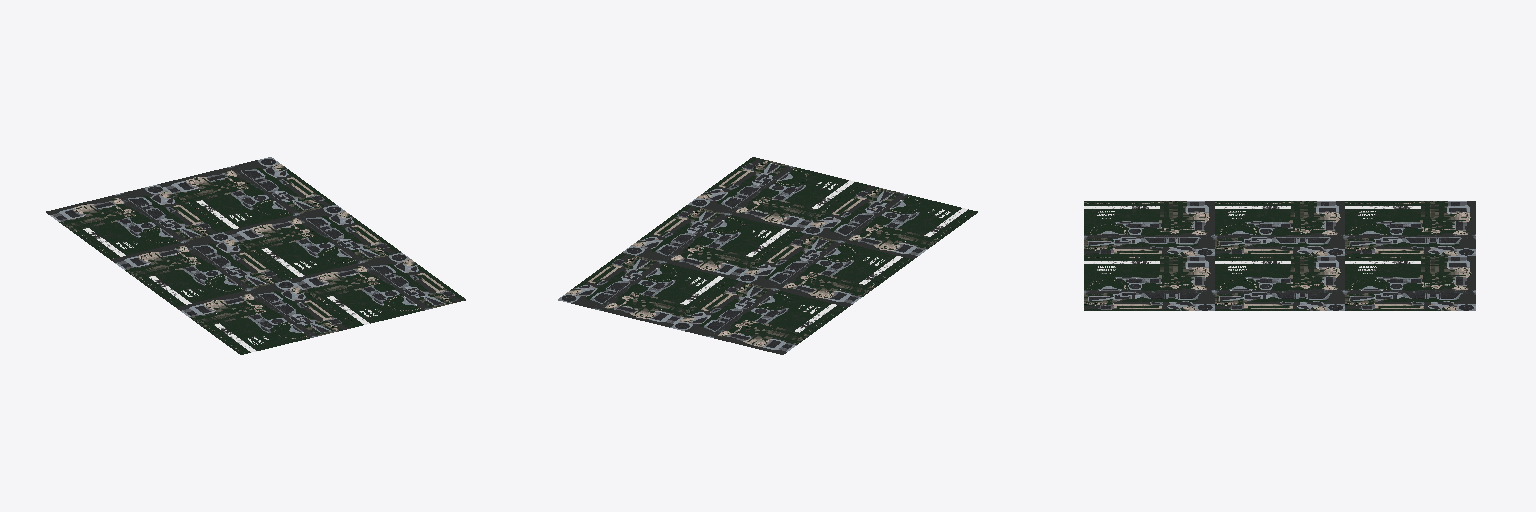
3 views of the same model, side by side, from view 1: azimuth 30°, elevation 25°; view 2: azimuth 150°, elevation 25°; view 3: azimuth 270°, elevation 25° (orthographic).
Parts seen in each view (by area): view 1: Group16 initialShadingGroup initialShadingGroup1 polySurface2; view 2: Group16 initialShadingGroup initialShadingGroup1 polySurface2; view 3: Group16 initialShadingGroup initialShadingGroup1 polySurface2.
Boxes of the visible parts, <box> form: Group16 initialShadingGroup initialShadingGroup1 polySurface2: <box>46,157,465,354</box>; Group16 initialShadingGroup initialShadingGroup1 polySurface2: <box>558,157,977,354</box>; Group16 initialShadingGroup initialShadingGroup1 polySurface2: <box>1084,201,1475,310</box>.
Bounding box in the file's own units: 3.33 × 0 × 5.
1 materials, 1 textured.